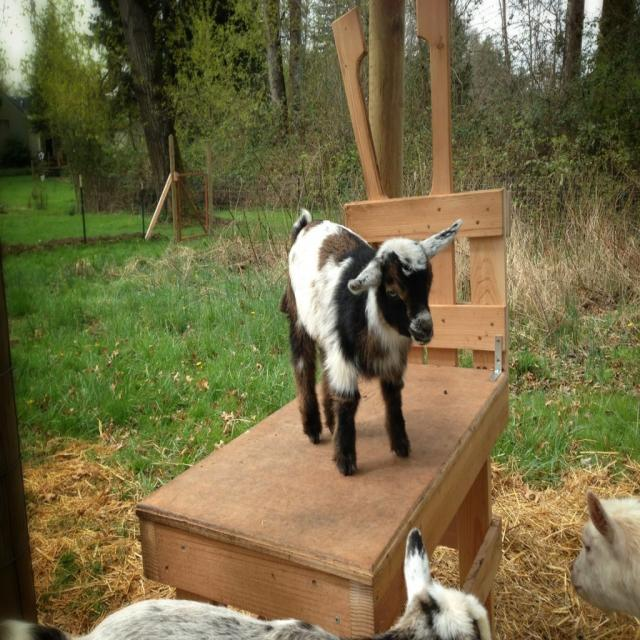Goat: (280, 208, 462, 480), (77, 523, 492, 639), (570, 492, 640, 615)
